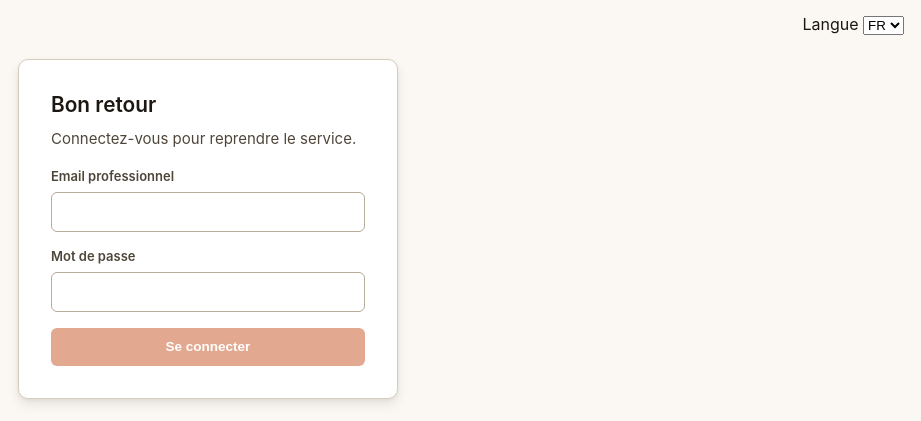
LoginScreen › désactive la soumission tant que email/mot de passe ne sont pas remplis
Expected: the submit button is disabled, [51,328,365,366]
In the field with id "login-email": (208, 212) [51,192,365,232], type "a@b.com"
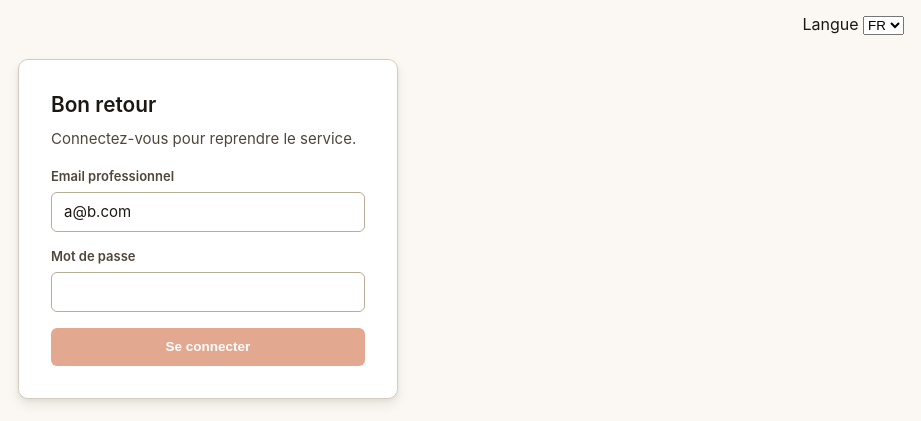
In the password field with id "login-password": (208, 292) [51,272,365,312], type "secret1234"
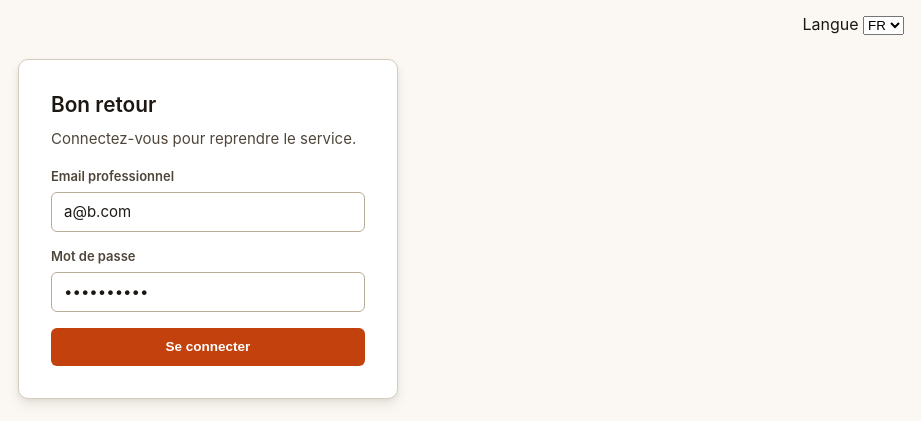
Now the submit button is enabled, box [51,328,365,366]
